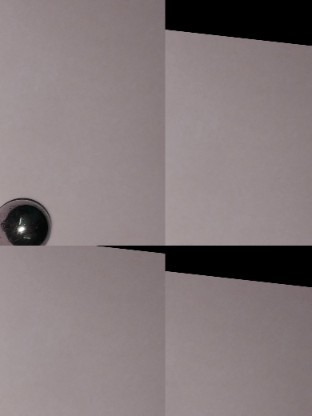ironball: (0, 195, 51, 243)
